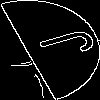J: (25, 25, 98, 66)
